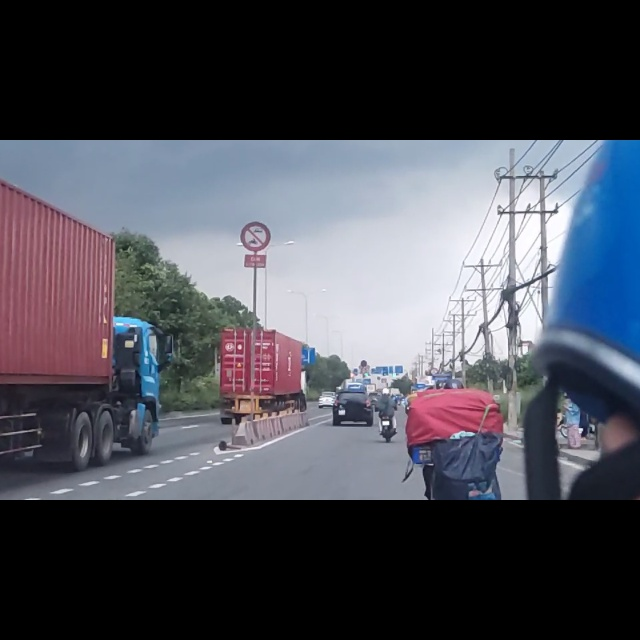bien_nguy_hiem: (241, 145, 271, 199)
